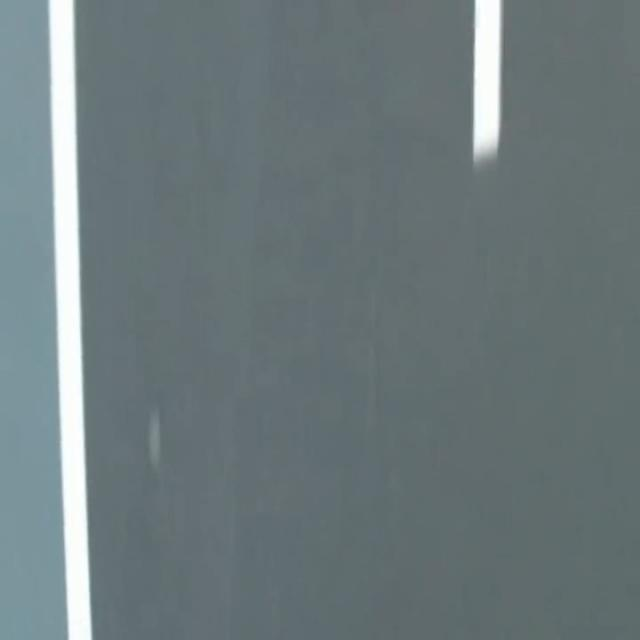center: (473, 0, 501, 164)
left: (48, 0, 92, 639)
